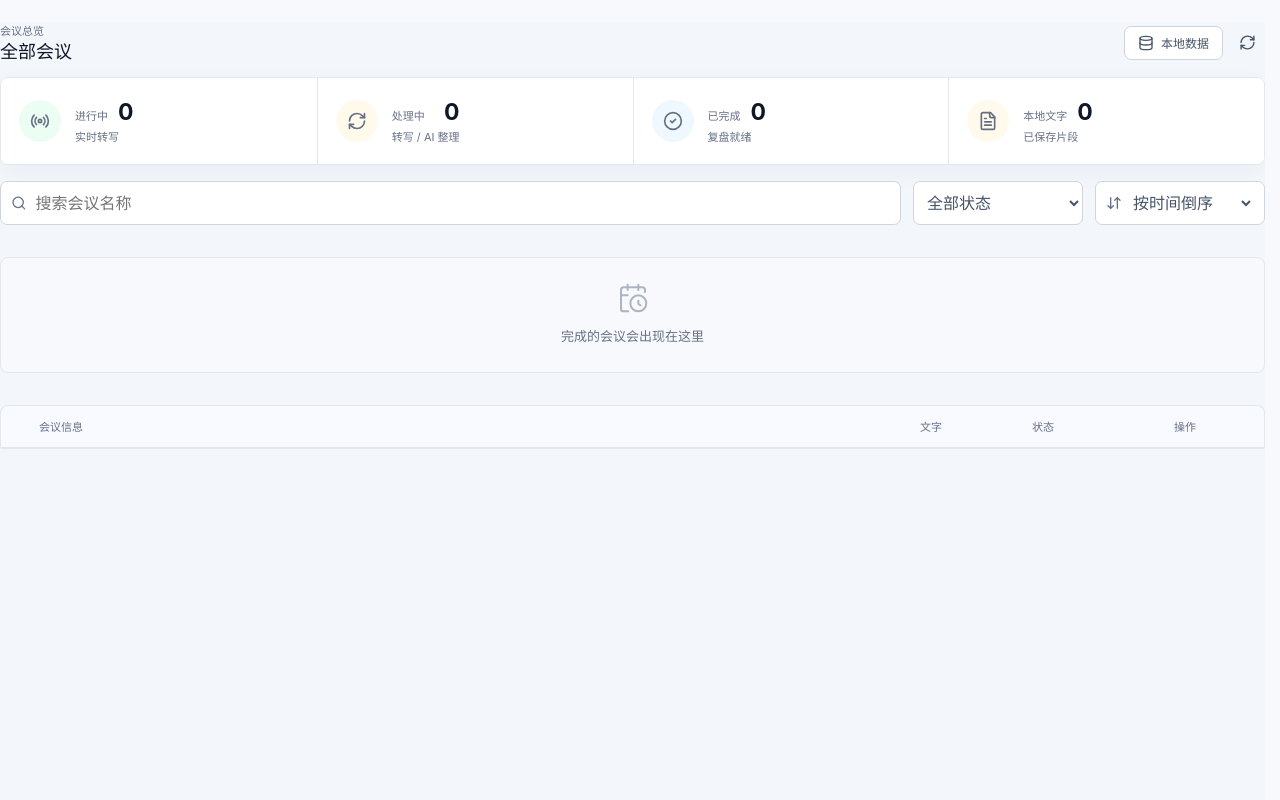
it: MeetingHistory › can retry a failed retention-policy load before enabling save
The width and height of the screenshot is (1280, 800).
Click the button "本地数据".
click(1174, 43)  # box left=1124, top=26, right=1223, bottom=60
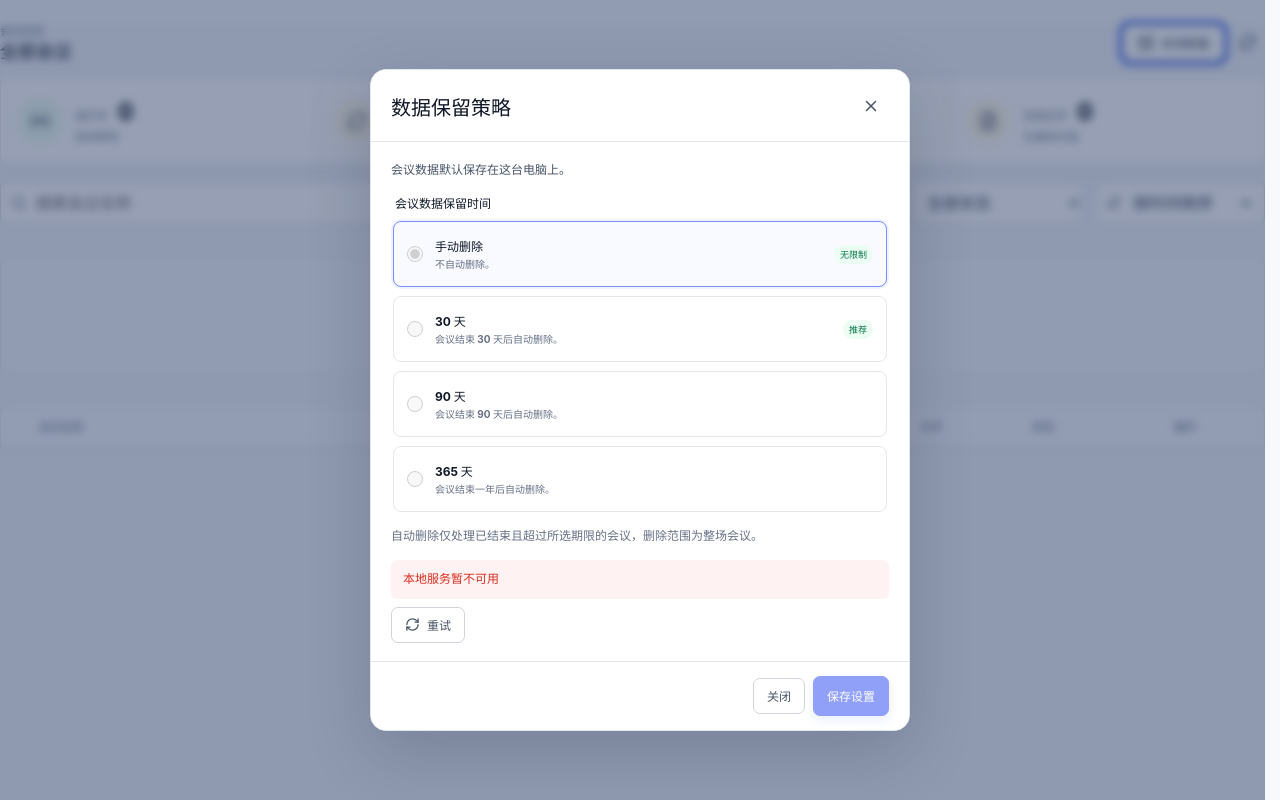
Result: the message reads "本地服务暂不可用" at left=403, top=571, right=499, bottom=586
Result: the button "保存设置" is disabled at left=813, top=676, right=889, bottom=716
Click the button "重试".
click(428, 625)  # box left=391, top=607, right=465, bottom=643
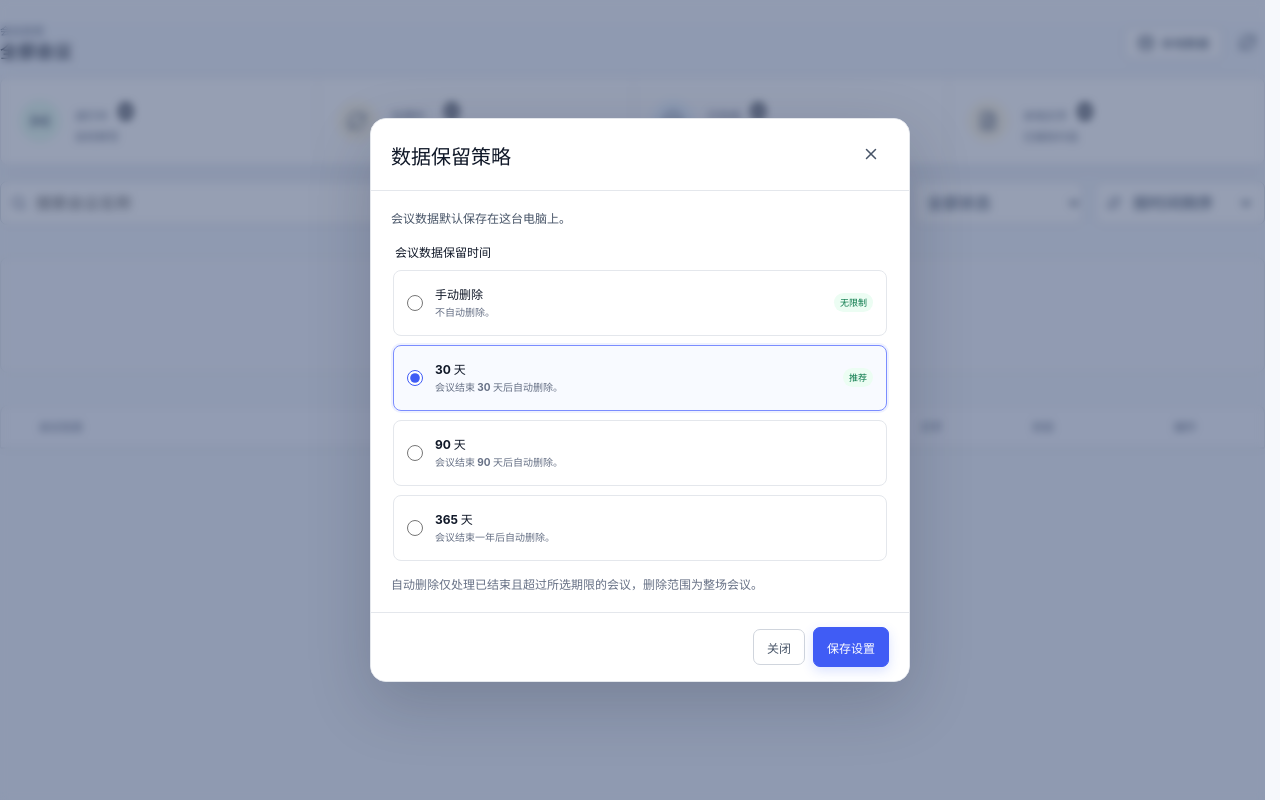
Result: the radio button labelled "30 天 会议结束 30 天后自动删除。 推荐" is checked at left=407, top=370, right=423, bottom=386
Result: the button "保存设置" is enabled at left=813, top=627, right=889, bottom=667
